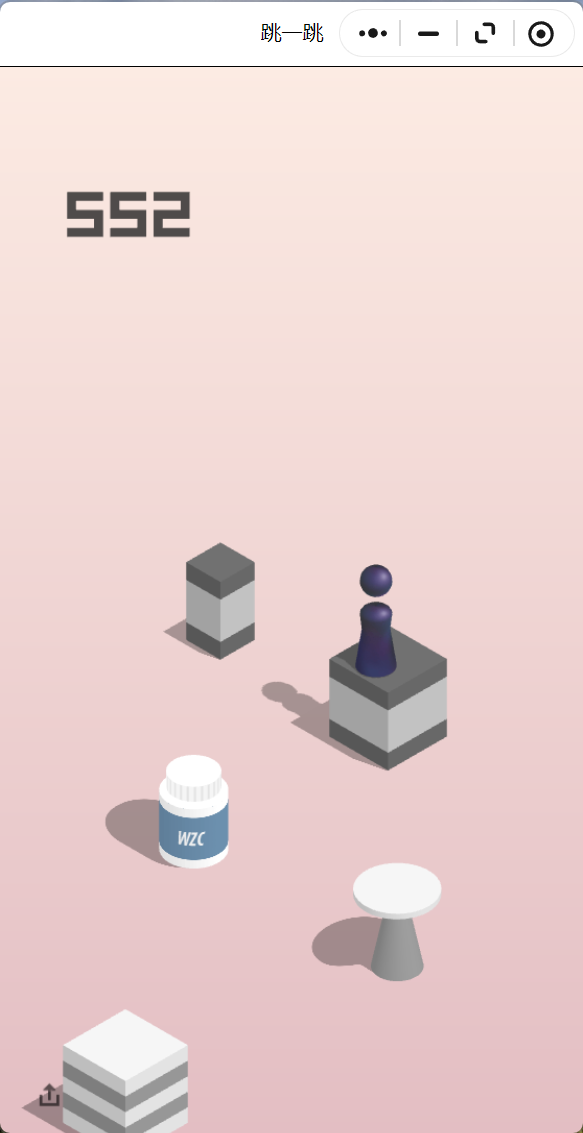piece: (360, 564, 392, 672)
target: (187, 543, 255, 581)
